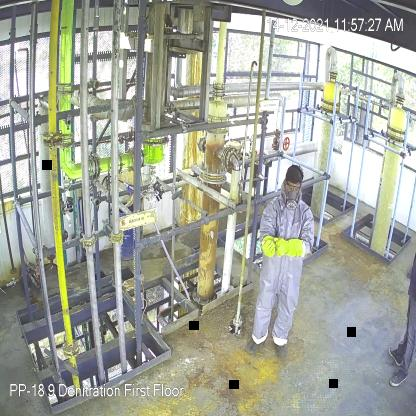goggles: (284, 183, 304, 192)
mask: (284, 190, 299, 210)
